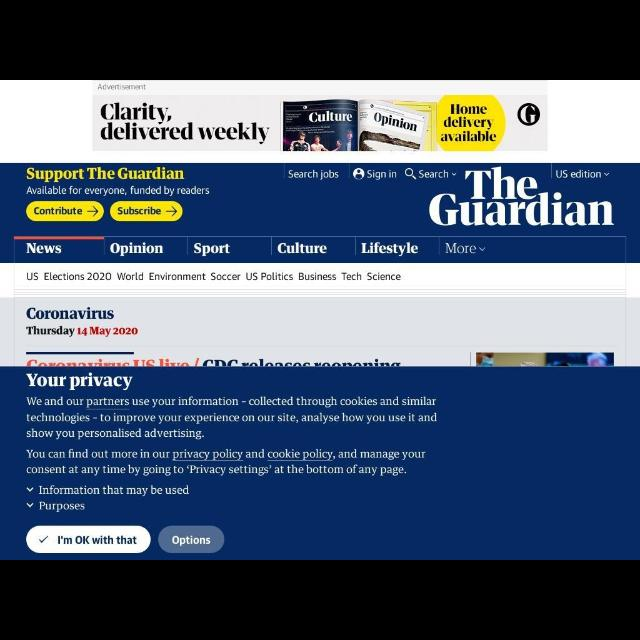icon: (35, 532, 51, 546), (404, 165, 416, 181), (352, 167, 366, 180), (86, 205, 100, 217), (165, 206, 177, 218), (478, 244, 486, 253), (603, 170, 611, 178), (27, 500, 35, 508), (26, 486, 34, 492), (452, 171, 456, 177)
iframe: (93, 80, 549, 150)
image: (428, 165, 616, 227)
multitab: (1, 235, 639, 262)
spinner: (23, 482, 190, 498), (554, 164, 614, 182), (24, 499, 90, 515), (442, 237, 488, 259), (418, 167, 458, 180)
text: (23, 393, 439, 441), (23, 448, 431, 478), (26, 164, 188, 180), (26, 183, 210, 197), (24, 370, 134, 392), (40, 484, 188, 496), (26, 303, 116, 321), (24, 324, 142, 336), (26, 268, 112, 284), (58, 533, 138, 547), (361, 240, 419, 256), (110, 240, 167, 256), (276, 240, 328, 256), (246, 268, 294, 284), (148, 270, 208, 282), (194, 239, 232, 257), (34, 204, 82, 216), (39, 500, 87, 512), (116, 204, 162, 216), (556, 168, 602, 180), (169, 534, 213, 546), (288, 169, 340, 179), (366, 269, 402, 283), (26, 242, 62, 254), (445, 242, 475, 256), (298, 272, 336, 282), (368, 168, 398, 180), (116, 269, 146, 281), (210, 271, 242, 281), (420, 168, 448, 178), (343, 270, 363, 282)
textbutton: (27, 525, 152, 553), (159, 524, 225, 554), (110, 200, 184, 222), (26, 200, 104, 220)
toolbar: (1, 163, 638, 234)
